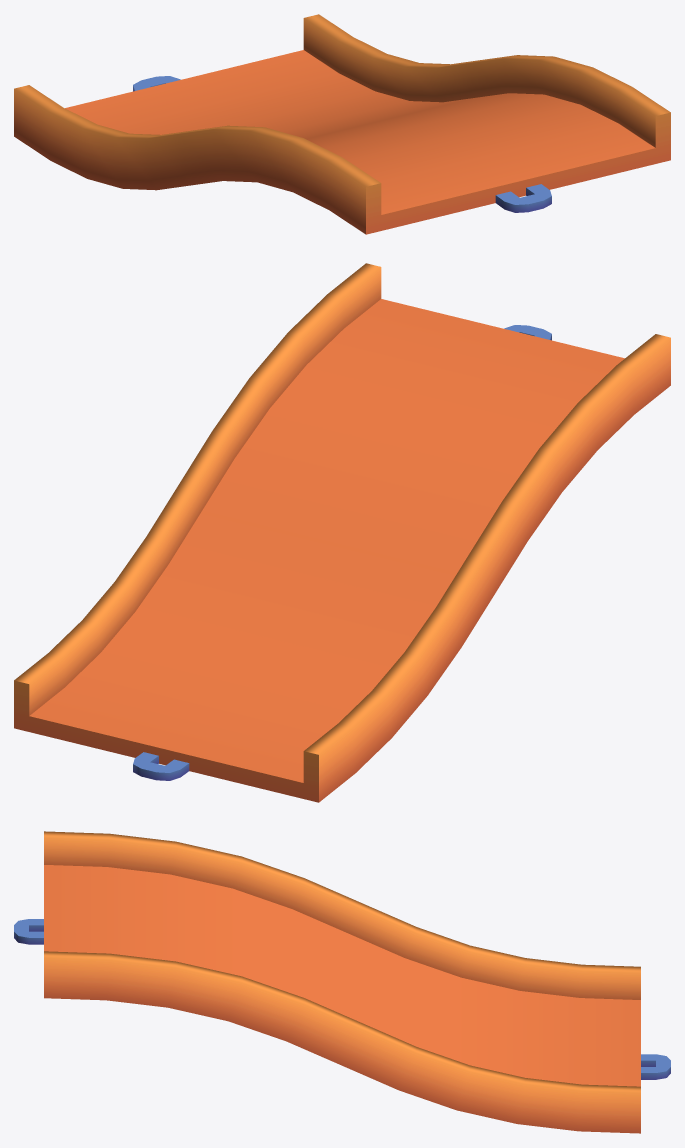
The model's file is track-wide-straight-hill-complete.glb.
The picture shows the model from 3 angles, top to bottom: view 1: azimuth 30°, elevation 25°; view 2: azimuth 150°, elevation 25°; view 3: azimuth 270°, elevation 25°; orthographic projection. The views are drawn at different scales.
Parts seen in each view (by area): view 1: track-wide-straight-hill-complete; view 2: track-wide-straight-hill-complete; view 3: track-wide-straight-hill-complete.
Boxes of the visible parts, left/top/right/bottom form: track-wide-straight-hill-complete: left=14, top=14, right=670, bottom=234; track-wide-straight-hill-complete: left=14, top=263, right=670, bottom=802; track-wide-straight-hill-complete: left=14, top=831, right=670, bottom=1133.
Bounding box in the file's own units: 2 × 1.3 × 4.4.
1 material, 1 textured.
